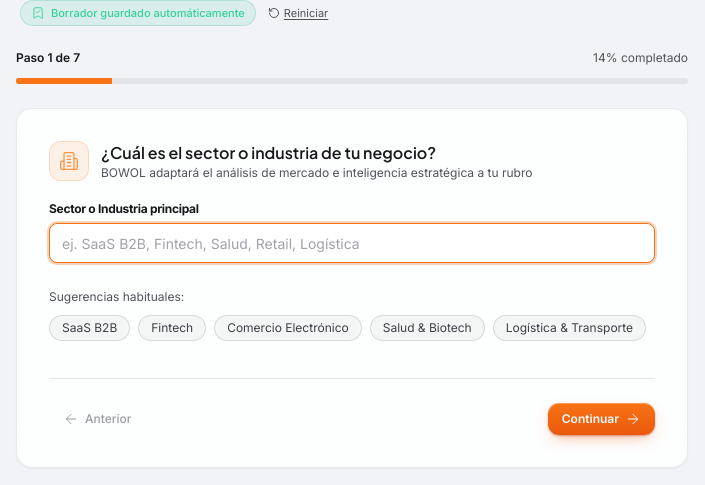
Test case: OnboardingWizard Component › permite seleccionar una sugerencia de industria y avanzar al paso 2
# Click en la sugerencia SaaS B2B
Click the button "SaaS B2B": (90, 328) [49,315,130,341]
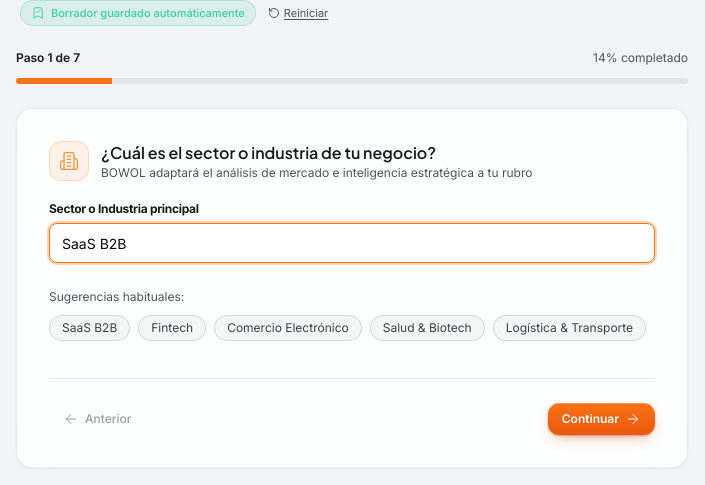
Click the button "Continuar": (601, 419) [548,403,655,435]
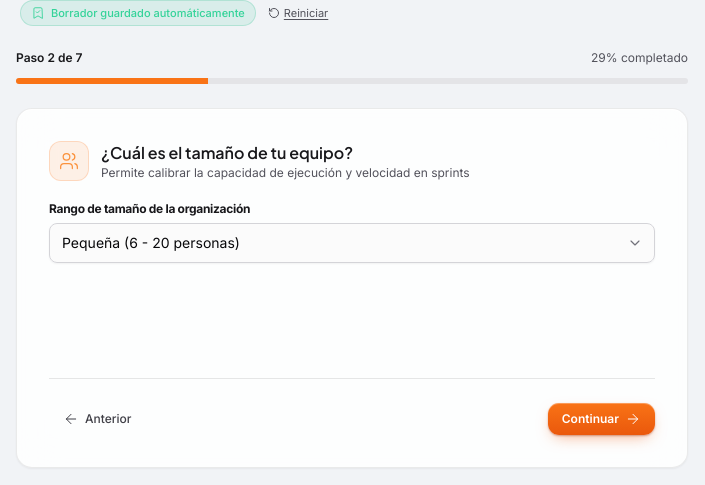
Expected: the heading "¿Cuál es el tamaño de tu equipo?" is shown, [101,142,353,163]
